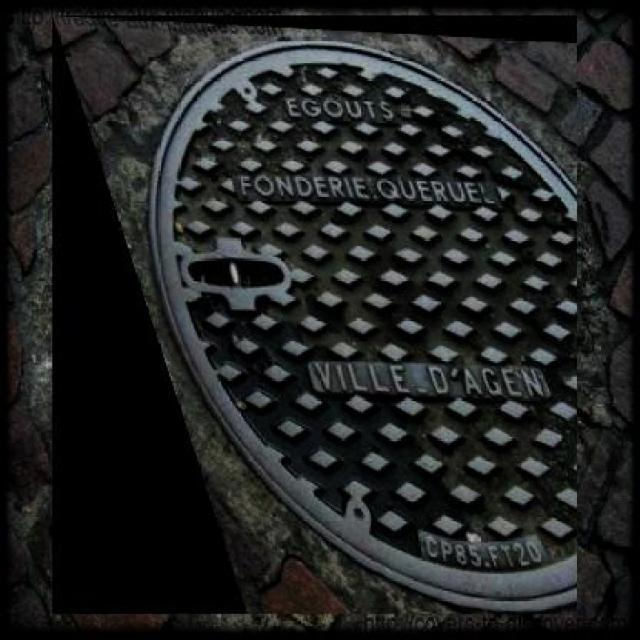Manhole: (52, 15, 577, 614)
